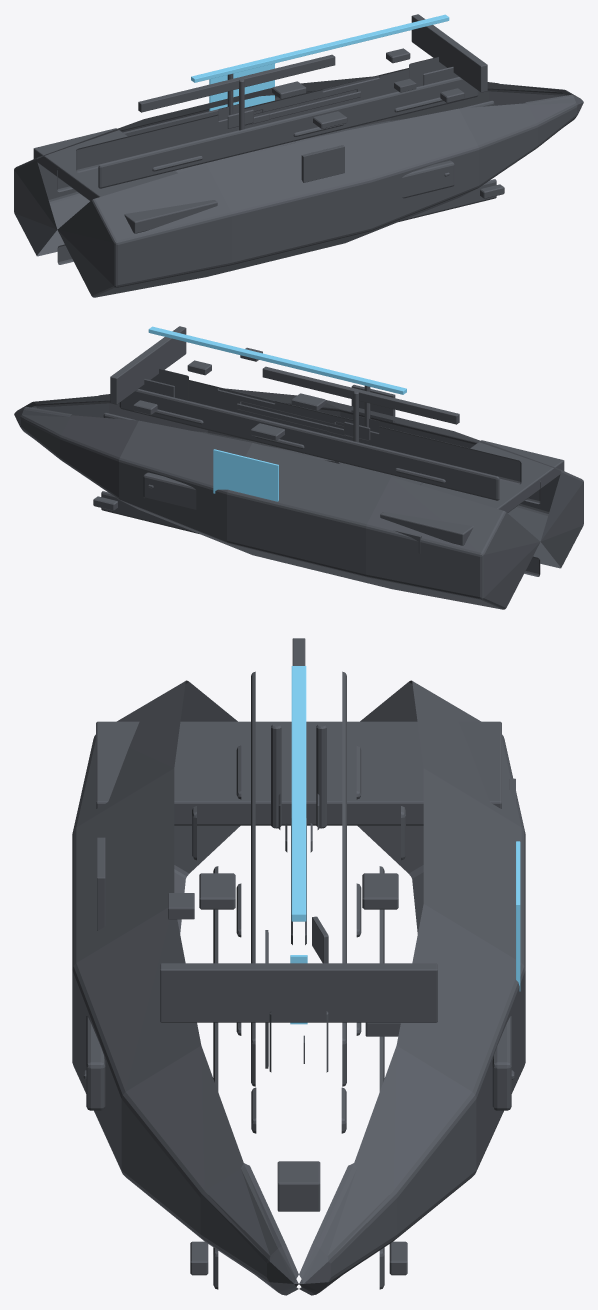
Rendered from _hull_salvager_elite_export.glb.
The picture shows the model from 3 angles, top to bottom: view 1: azimuth 30°, elevation 25°; view 2: azimuth 150°, elevation 25°; view 3: azimuth 270°, elevation 25°; orthographic projection. The views are drawn at different scales.
Visible parts, largest first — view 1: LOD0_HULL_FREIGHTER_MAIN, DET_exhaust_soot, DET_superstructure_rib, DET_cargo_bay_rim, DET_rust_stripe, DET_field_weld, DET_manifest_stencil, DET_dock_scrape; view 2: LOD0_HULL_FREIGHTER_MAIN, DET_exhaust_soot, DET_manifest_stencil, DET_superstructure_rib, DET_cargo_bay_rim, DET_rust_stripe, DET_field_weld; view 3: LOD0_HULL_FREIGHTER_MAIN, DET_exhaust_soot, DET_superstructure_rib, DET_rust_stripe, DET_salvage_claw_mount, DET_field_weld.
Part boxes in pixels (<box>): LOD0_HULL_FREIGHTER_MAIN: <box>14,48,583,297</box>; DET_exhaust_soot: <box>33,128,217,233</box>; DET_superstructure_rib: <box>411,14,487,92</box>; DET_cargo_bay_rim: <box>138,54,335,112</box>; DET_rust_stripe: <box>191,14,449,82</box>; DET_field_weld: <box>301,145,344,182</box>; DET_manifest_stencil: <box>209,63,274,111</box>; DET_dock_scrape: <box>123,109,218,136</box>; LOD0_HULL_FREIGHTER_MAIN: <box>14,360,583,609</box>; DET_exhaust_soot: <box>380,440,564,545</box>; DET_manifest_stencil: <box>213,449,278,501</box>; DET_superstructure_rib: <box>110,326,186,404</box>; DET_cargo_bay_rim: <box>262,366,459,424</box>; DET_rust_stripe: <box>148,326,406,394</box>; DET_field_weld: <box>351,384,395,422</box>; LOD0_HULL_FREIGHTER_MAIN: <box>72,671,525,1295</box>; DET_exhaust_soot: <box>96,721,501,825</box>; DET_superstructure_rib: <box>160,963,437,1022</box>; DET_rust_stripe: <box>291,666,306,921</box>; DET_salvage_claw_mount: <box>277,1161,320,1211</box>; DET_field_weld: <box>97,837,105,930</box>.
Size of the model in its own units: 11.35 by 3.6 by 4.24.
